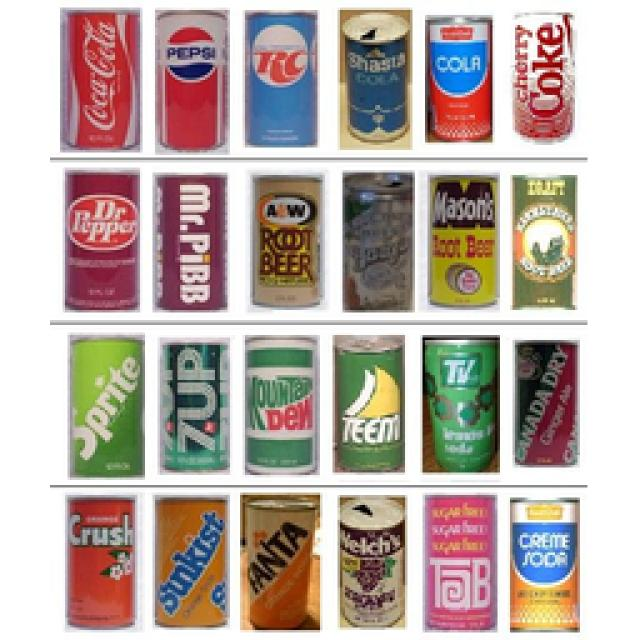aluminum_soda_cans: (62, 3, 145, 154), (72, 335, 145, 480), (70, 166, 142, 312), (340, 7, 415, 146), (158, 12, 228, 153), (334, 337, 404, 475), (162, 340, 235, 472), (427, 338, 500, 468), (70, 497, 140, 630), (427, 12, 493, 152), (252, 13, 320, 148), (247, 495, 315, 630), (433, 175, 500, 312), (160, 492, 228, 625), (340, 500, 407, 628), (256, 177, 322, 305), (513, 15, 577, 145), (517, 340, 583, 465), (515, 502, 580, 626)
